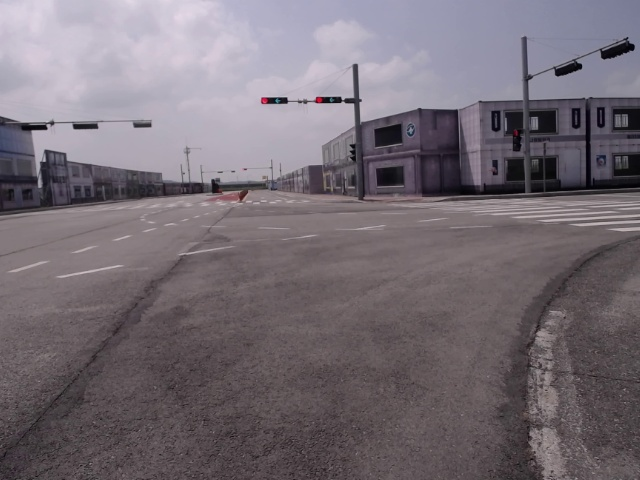left_green_4: (261, 97, 288, 103), (316, 97, 341, 103)
